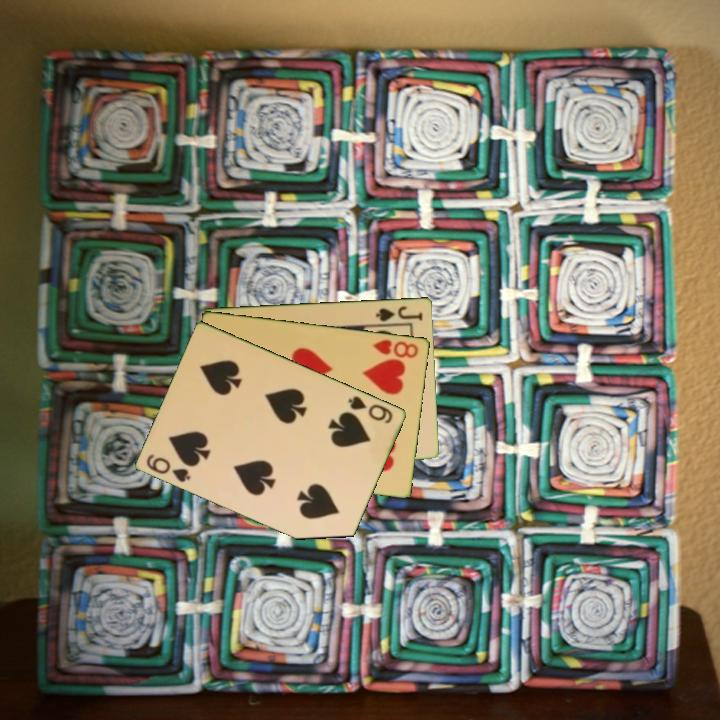6s: (345, 392, 396, 427), (143, 450, 194, 485)
8h: (369, 335, 421, 360)
Js: (372, 302, 426, 324)
